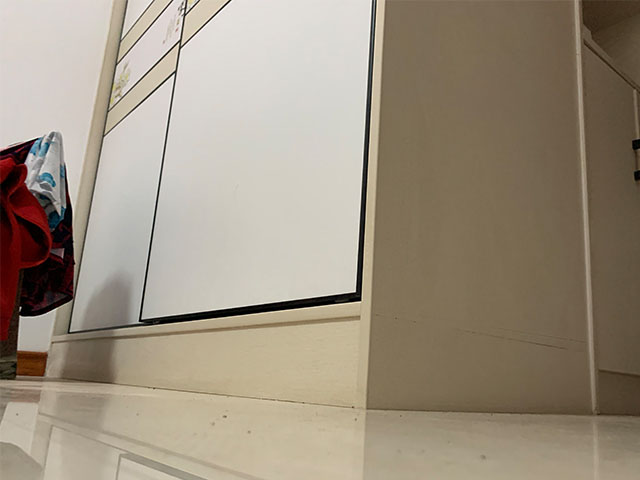cabinet: (37, 1, 391, 417)
